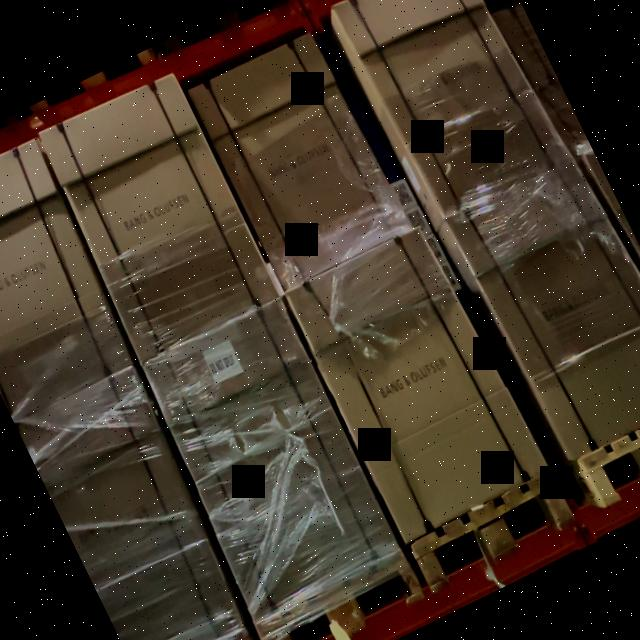box: (285, 227, 549, 544), (143, 298, 402, 617), (39, 73, 279, 363), (188, 33, 413, 291), (448, 165, 640, 460), (332, 0, 575, 218)
